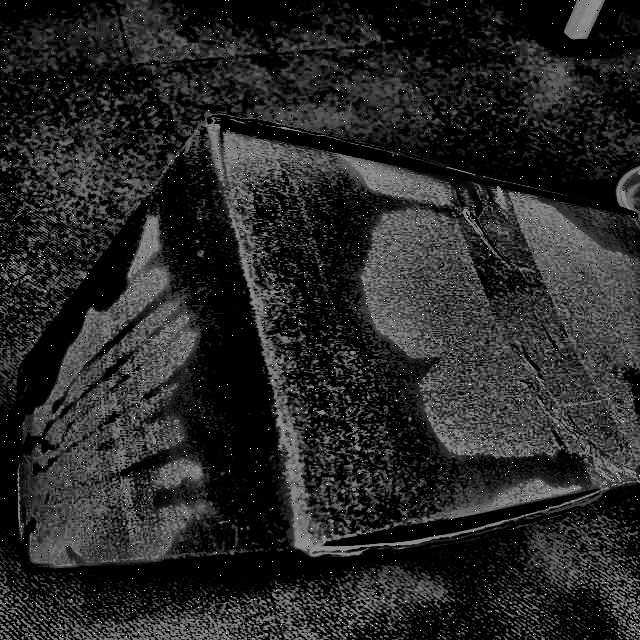box: (15, 109, 640, 581)
wet: (136, 112, 382, 574)
